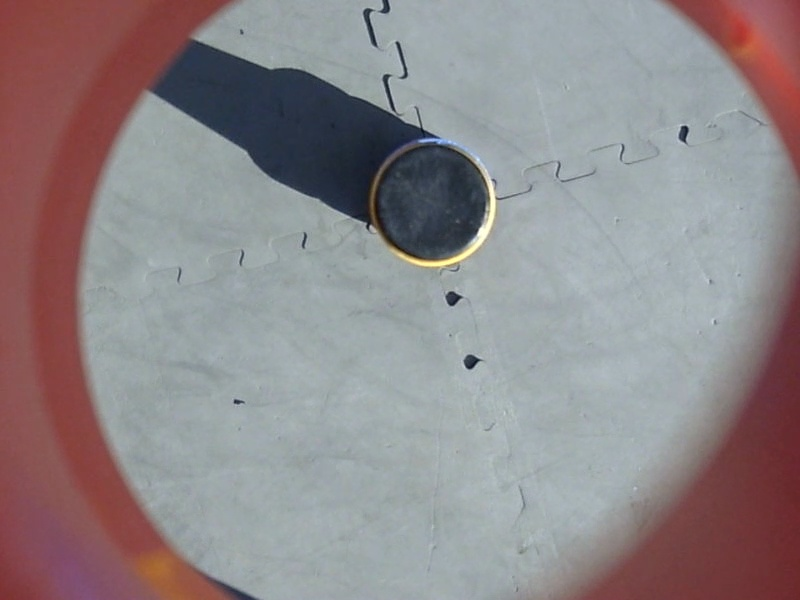tip: (362, 127, 507, 275)
